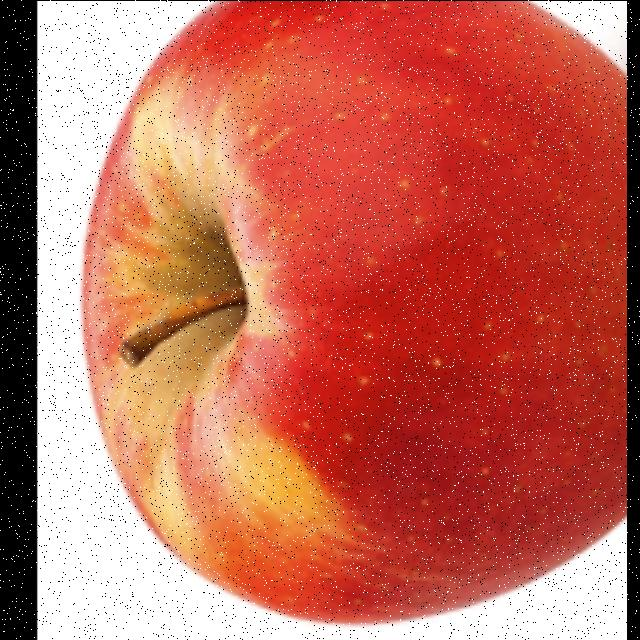Apel Segar: (67, 1, 628, 632)
